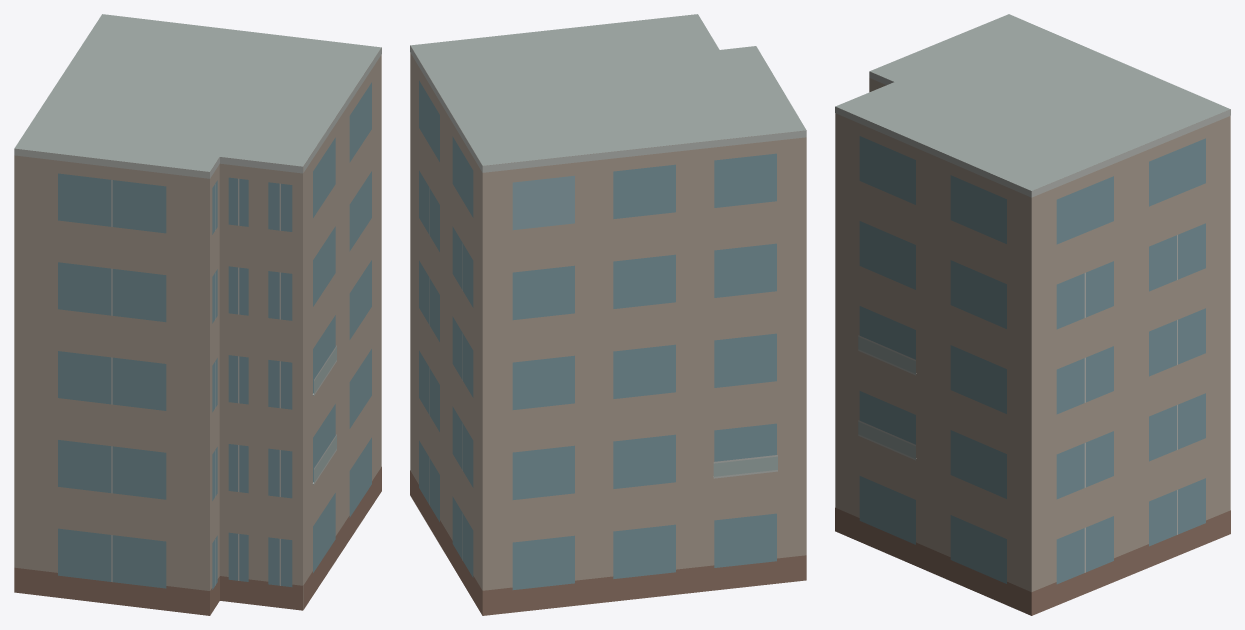
Rendered from survey-upis-32563168.glb.
The picture shows the model from 3 angles, left to right: view 1: azimuth 30°, elevation 25°; view 2: azimuth 150°, elevation 25°; view 3: azimuth 270°, elevation 25°; orthographic projection. The views are drawn at different scales.
Parts seen in each view (by area): view 1: survey-upis-32563168.tmp; view 2: survey-upis-32563168.tmp; view 3: survey-upis-32563168.tmp.
Boxes of the visible parts, left/top/right/bottom form: survey-upis-32563168.tmp: left=14, top=14, right=381, bottom=615; survey-upis-32563168.tmp: left=410, top=14, right=806, bottom=615; survey-upis-32563168.tmp: left=835, top=14, right=1230, bottom=615.
Size of the model in its own units: 14.13 by 15.8 by 13.34.
